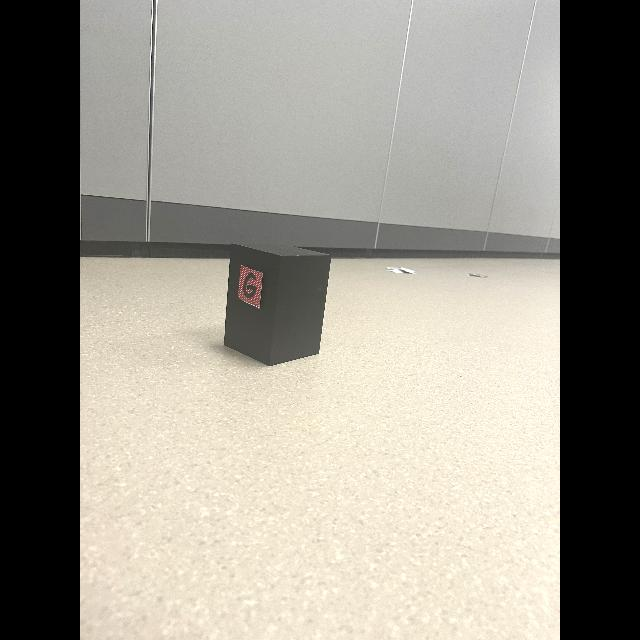G: (243, 273, 257, 298)
